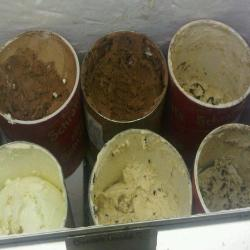icecream: (82, 133, 200, 234), (74, 32, 175, 123), (165, 25, 250, 114), (4, 53, 72, 127)
